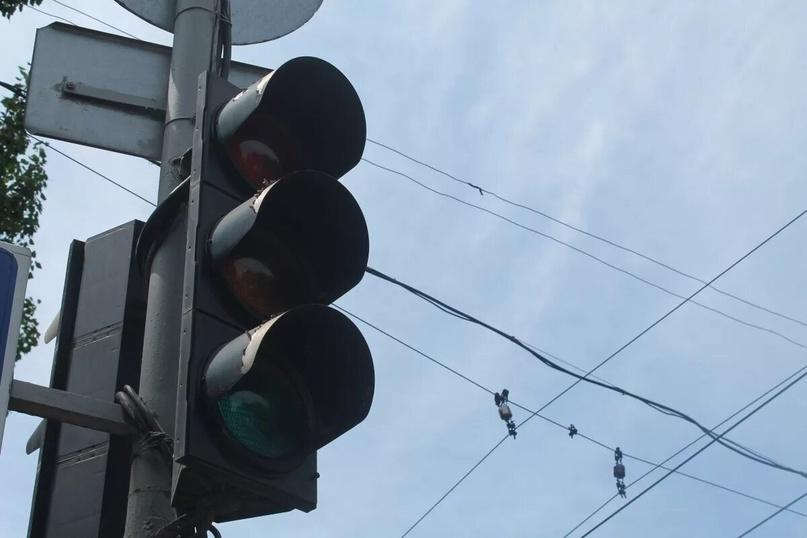off traffic light: (172, 58, 374, 520)
